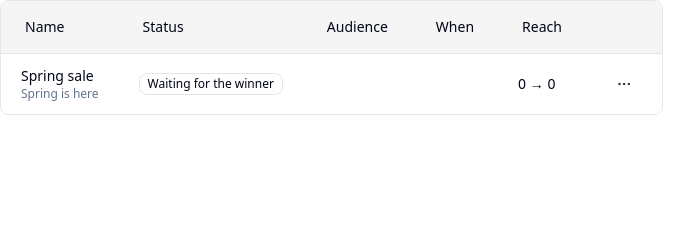
Scenario: PushCampaignsTable row menu › hides Edit for a non-draft status but keeps Cancel while scheduled
This screenshot has width=680, height=233.
Click the button named "Actions for Spring sale" at [624, 84], box [606,66,642,102]
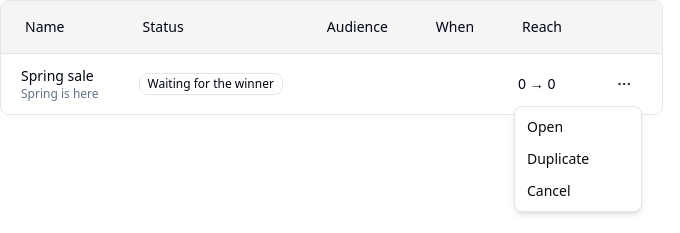
Now the menu item "Cancel" is shown, box [527,181,571,200]
